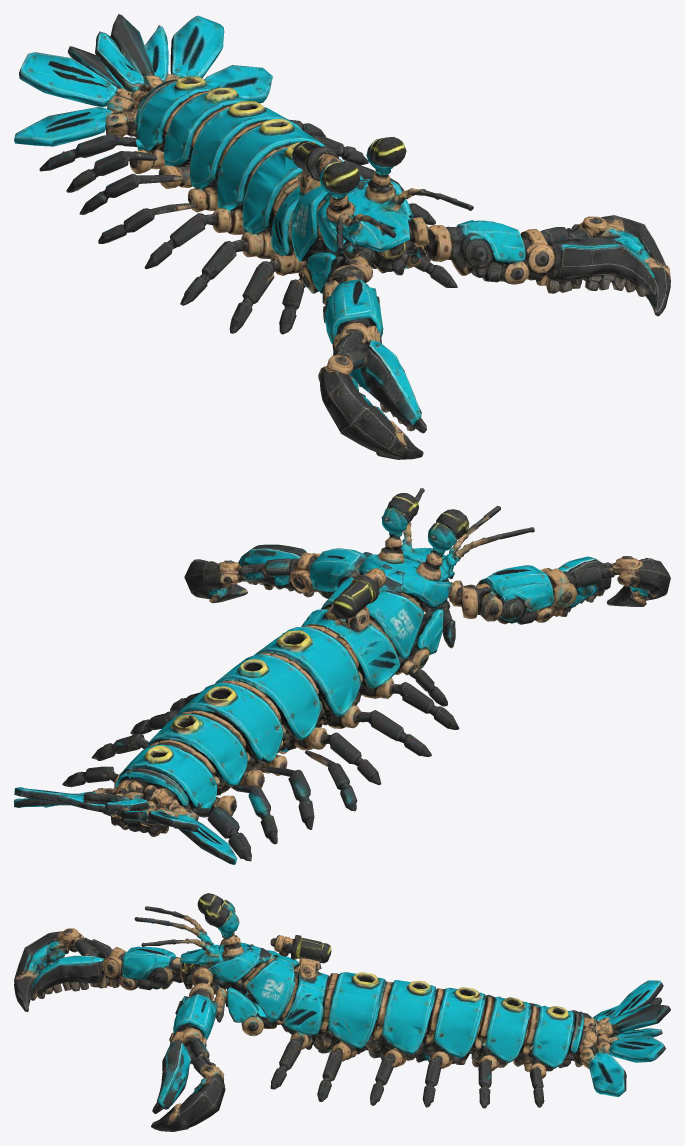
The model's file is mantis-shrimp.glb.
3 views of the same model, one above another, from view 1: azimuth 30°, elevation 25°; view 2: azimuth 150°, elevation 25°; view 3: azimuth 270°, elevation 25° (orthographic). The views are drawn at different scales.
Size of the model in its own units: 1.85 by 0.8367 by 3.4.
1 material, 1 textured.
